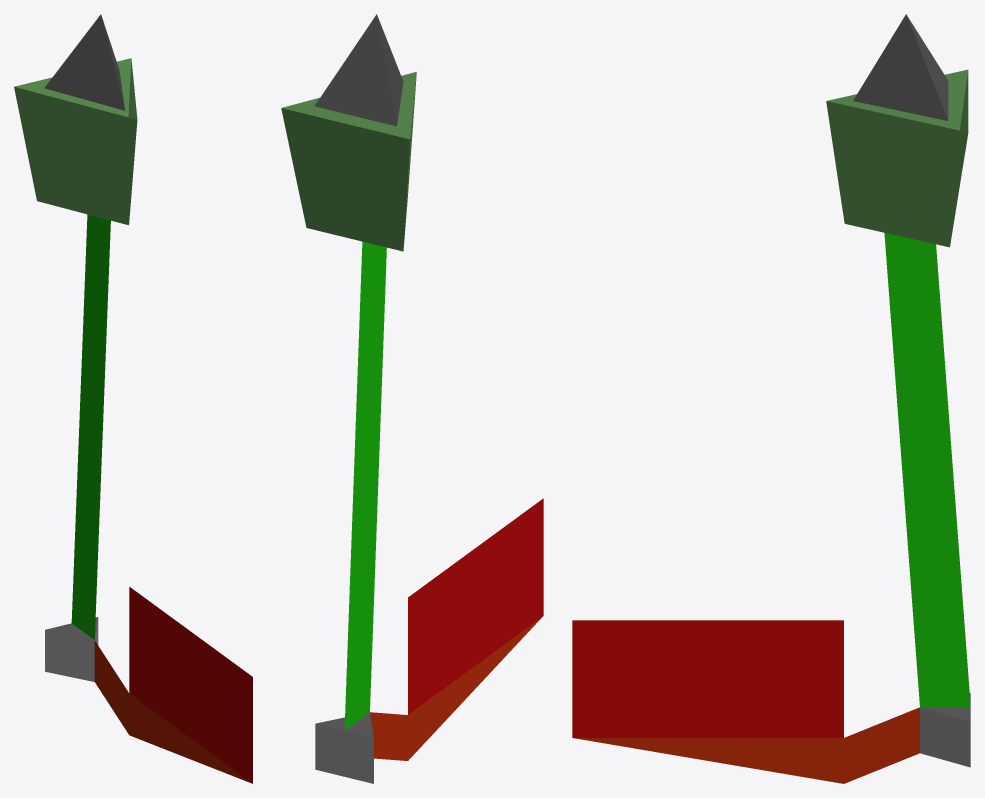
File: post00.obj
3 renders of one model, left to right at view 1: azimuth 30°, elevation 25°; view 2: azimuth 150°, elevation 25°; view 3: azimuth 270°, elevation 25°, orthographic. The views are drawn at different scales.
Visible parts, largest first — view 1: Cube.025_Cube.023; view 2: Cube.025_Cube.023; view 3: Cube.025_Cube.023.
Part boxes in pixels (x1,y1,x2,y2): Cube.025_Cube.023: [14, 14, 252, 783]; Cube.025_Cube.023: [281, 14, 543, 783]; Cube.025_Cube.023: [572, 14, 970, 783].
Size of the model in its own units: 22 by 125 by 58.83.
